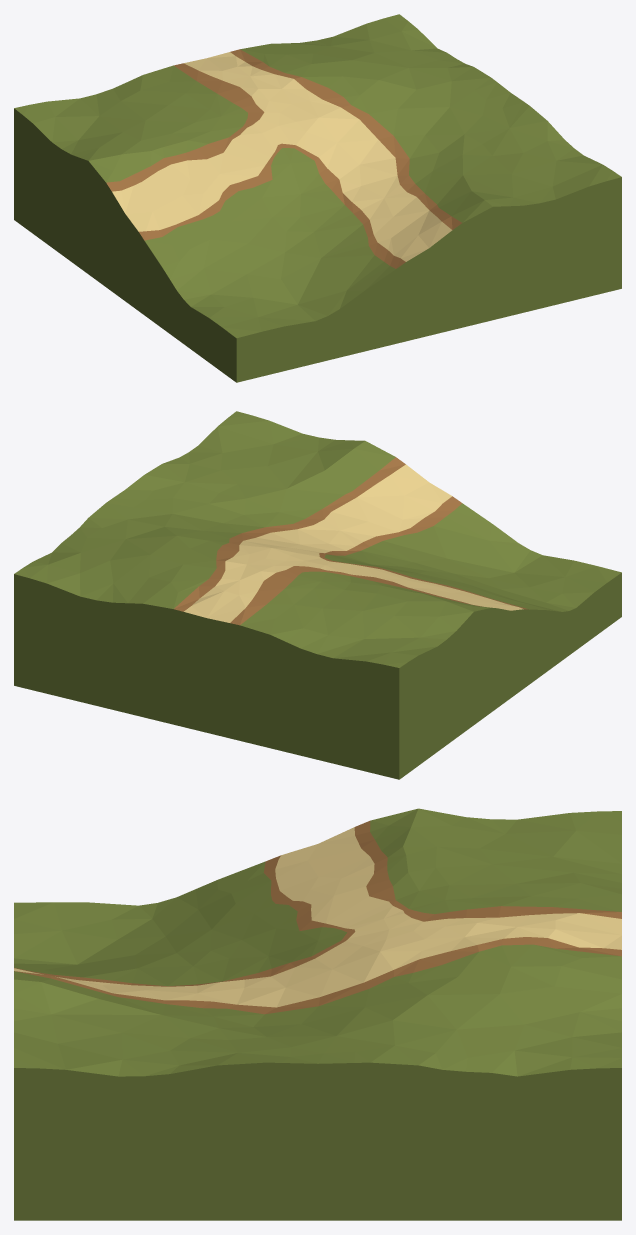
The model's file is Terrian_Road_Int_HillDip-02.fbx.
3 renders of one model, top to bottom at view 1: azimuth 30°, elevation 25°; view 2: azimuth 150°, elevation 25°; view 3: azimuth 270°, elevation 25°, orthographic. The views are drawn at different scales.
Parts seen in each view (by area): view 1: Terrian_Road_Int_HillDip-02; view 2: Terrian_Road_Int_HillDip-02; view 3: Terrian_Road_Int_HillDip-02.
Part boxes in pixels (left/top/right/bottom): Terrian_Road_Int_HillDip-02: left=14, top=14, right=621, bottom=382; Terrian_Road_Int_HillDip-02: left=14, top=411, right=621, bottom=779; Terrian_Road_Int_HillDip-02: left=14, top=808, right=621, bottom=1220.
Size of the model in its own units: 3600 by 1110 by 3600.
Materials: 1 (1 with a texture image).
